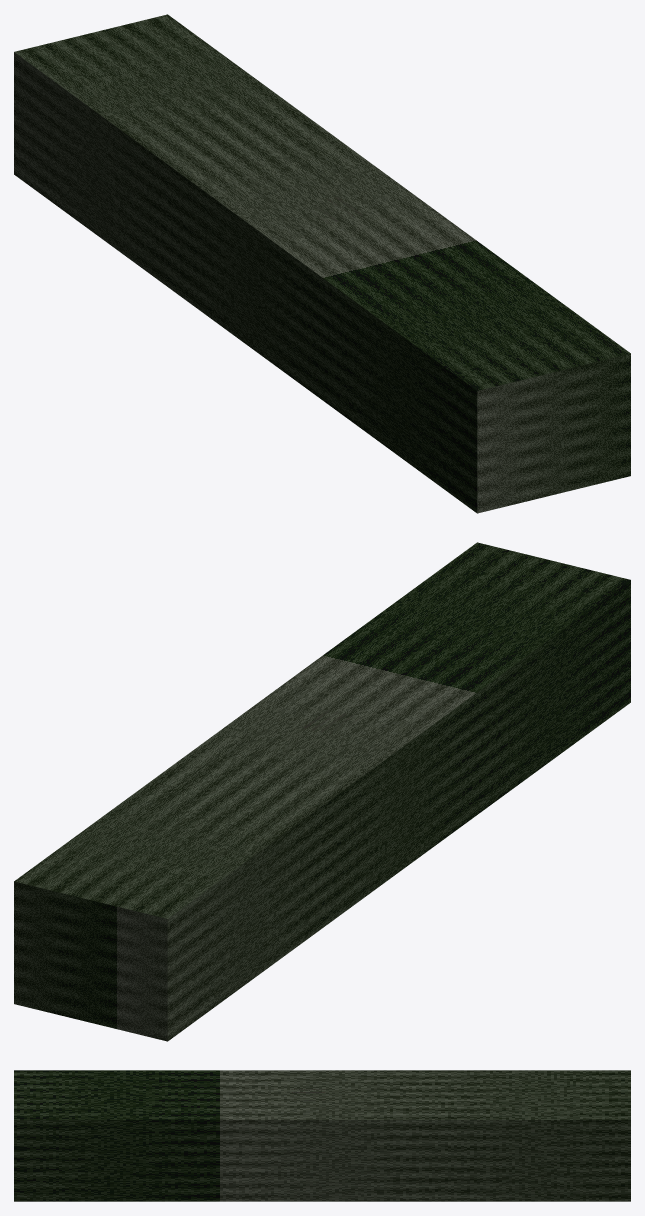
The model's file is game.glb.
3 views of the same model, one above another, from view 1: azimuth 30°, elevation 25°; view 2: azimuth 150°, elevation 25°; view 3: azimuth 270°, elevation 25° (orthographic). The views are drawn at different scales.
Visible parts, largest first — view 1: Room_Walls; view 2: Room_Walls; view 3: Room_Walls.
Part boxes in pixels (<box>): Room_Walls: <box>14,14,630,513</box>; Room_Walls: <box>14,542,630,1041</box>; Room_Walls: <box>14,1070,630,1201</box>.
Size of the model in its own units: 4.2 by 3.2 by 21.92.
7 materials, 4 textured.
